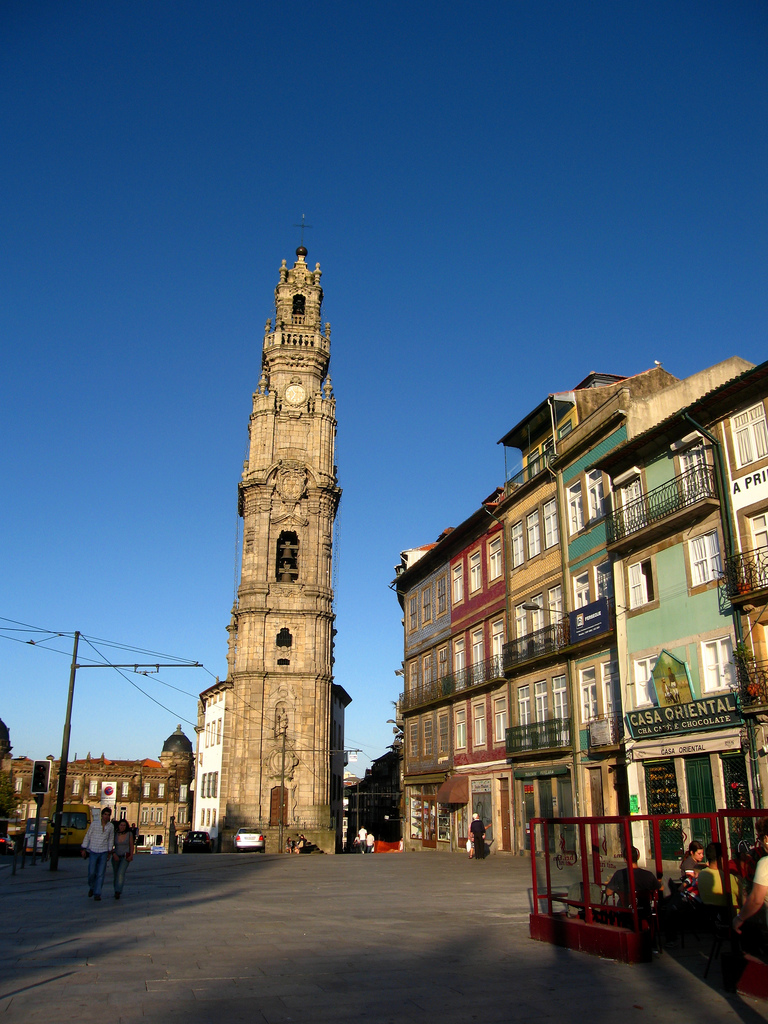clerigos: (217, 213, 344, 829)
